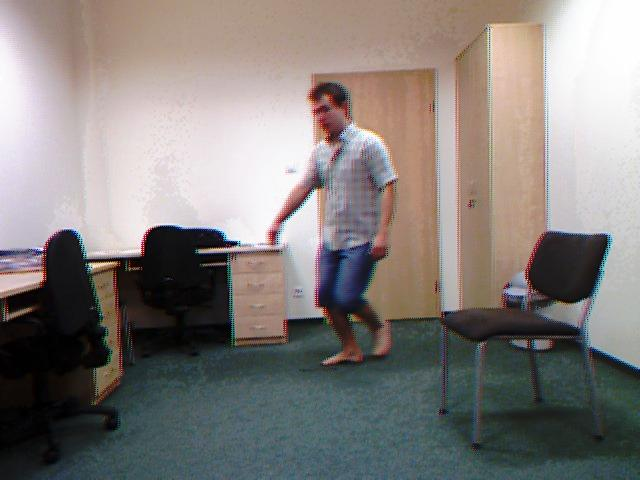near-fall: (259, 79, 407, 373)
